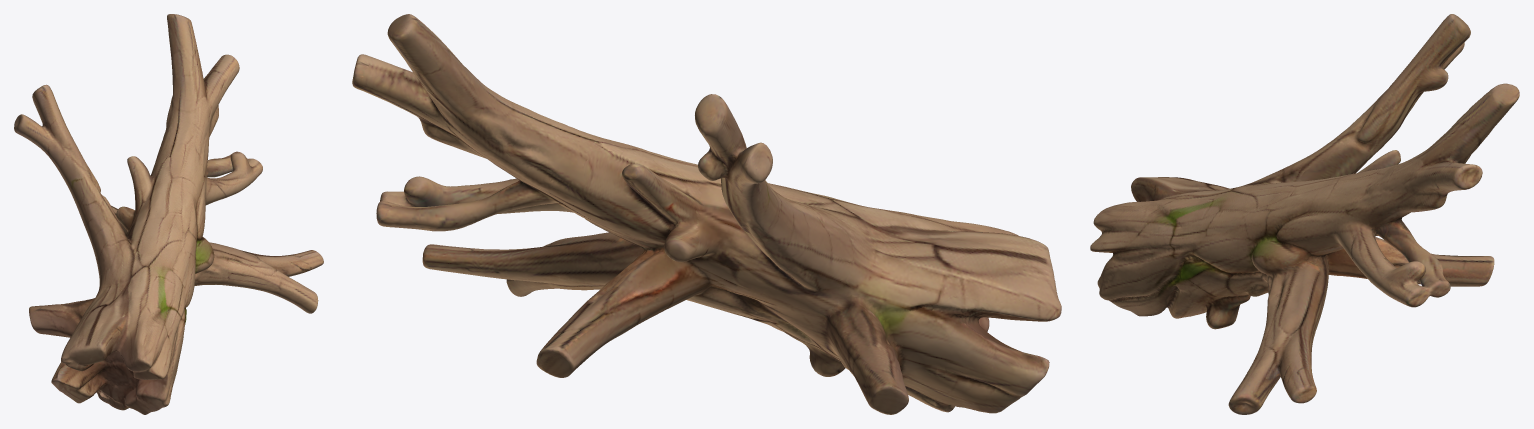
Rendered from FallenBranch_Normal.fbx.
3 renders of one model, left to right at view 1: azimuth 30°, elevation 25°; view 2: azimuth 150°, elevation 25°; view 3: azimuth 270°, elevation 25°, orthographic. The views are drawn at different scales.
Visible parts, largest first — view 1: mesh_node.001; view 2: mesh_node.001; view 3: mesh_node.001.
Part boxes in pixels (<box>): mesh_node.001: <box>14,14,323,414</box>; mesh_node.001: <box>352,14,1061,414</box>; mesh_node.001: <box>1090,14,1519,414</box>.
Size of the model in its own units: 53.68 by 43.84 by 49.32.
